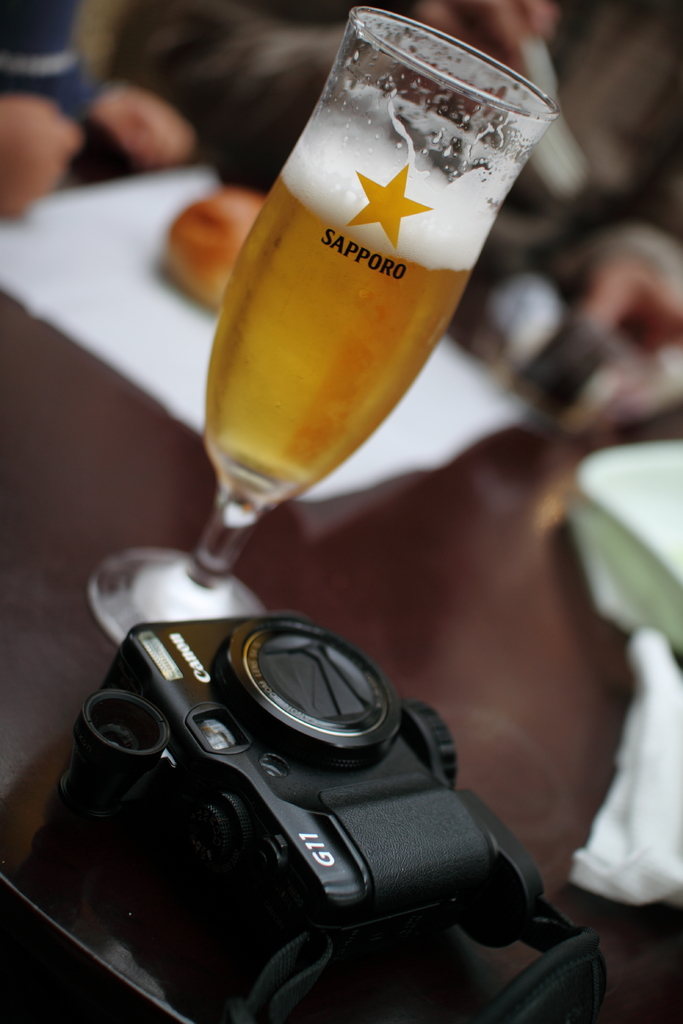Beer: (67, 1, 569, 641)
